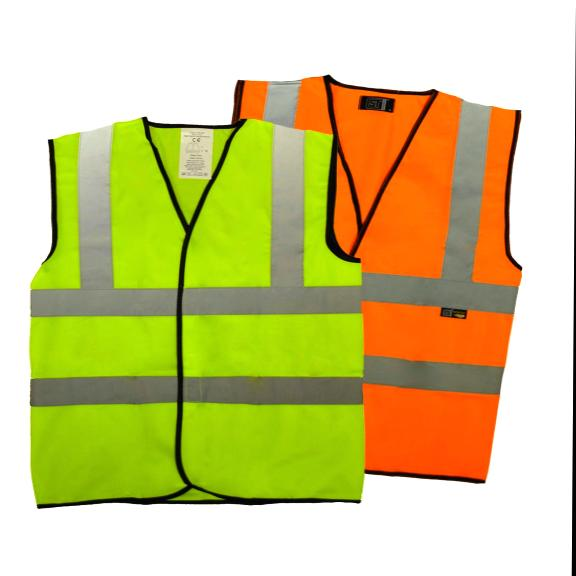safety_vest: (25, 115, 369, 505), (228, 70, 525, 486)
